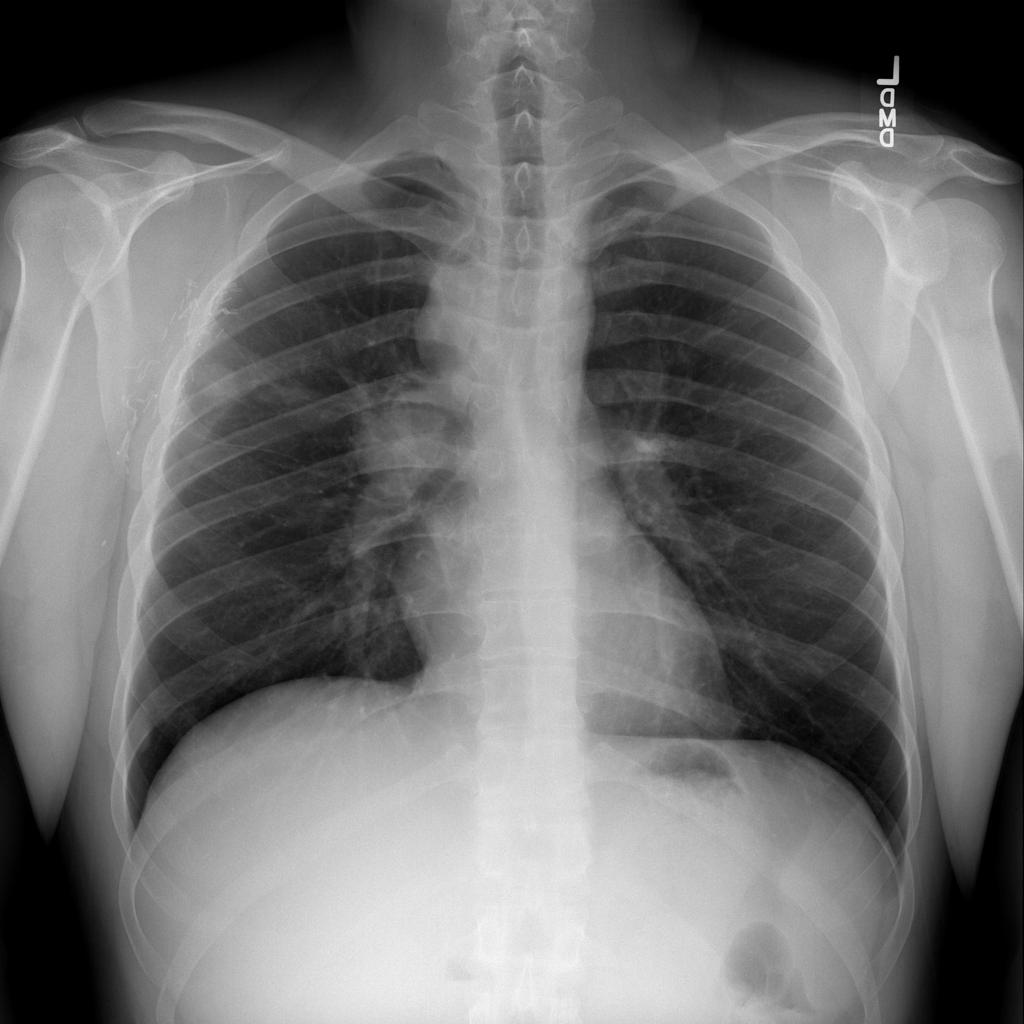nodule: (332, 374, 466, 509), (178, 346, 255, 418), (118, 707, 168, 760)
